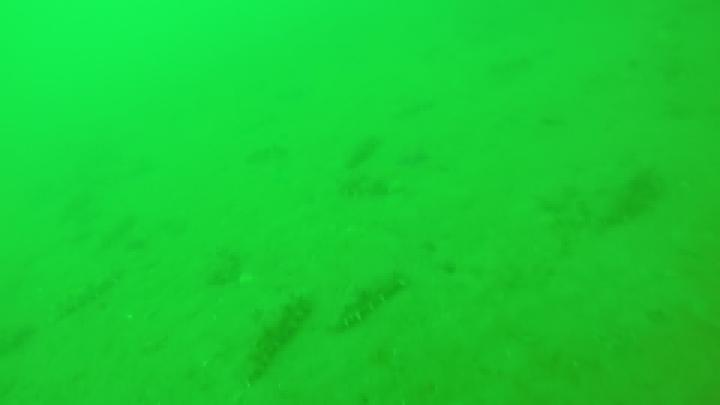echinus: (241, 298, 317, 382), (330, 268, 405, 328), (50, 266, 123, 315), (332, 176, 390, 194)
